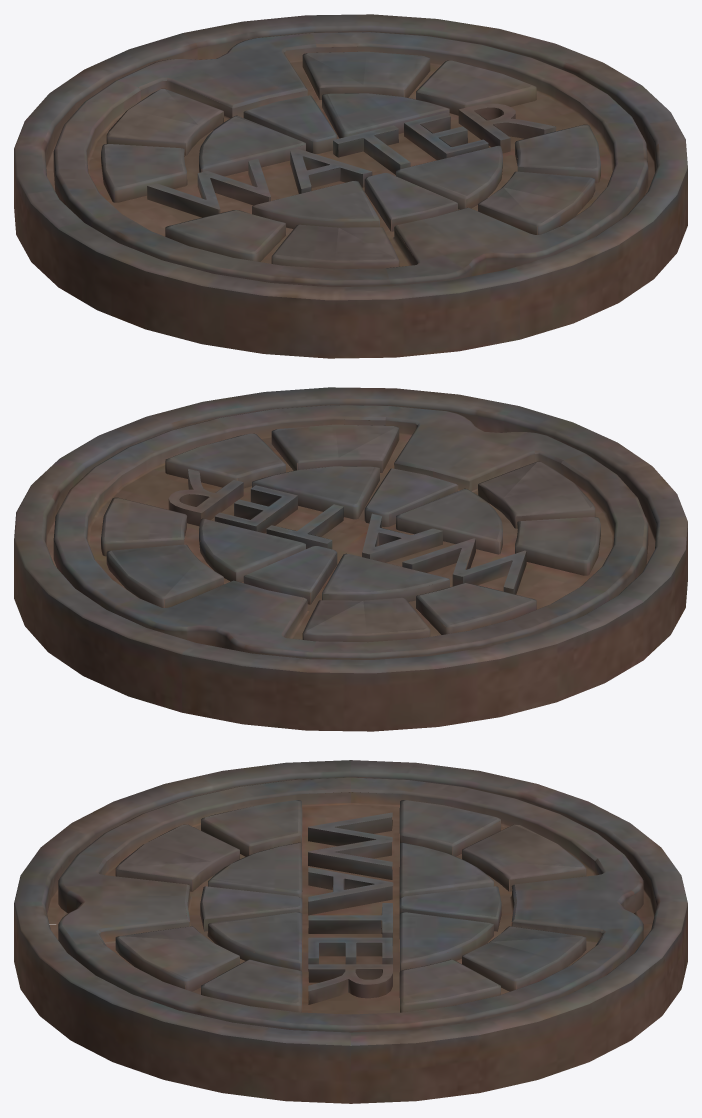
File: u_ph_water_manhole_cover.glb
3 views of the same model, one above another, from view 1: azimuth 30°, elevation 25°; view 2: azimuth 150°, elevation 25°; view 3: azimuth 270°, elevation 25° (orthographic).
Visible parts, largest first — view 1: water_manhole_cover_frame; view 2: water_manhole_cover_frame; view 3: water_manhole_cover_frame.
Part boxes in pixels (x1,y1,x2,y2): water_manhole_cover_frame: [14, 14, 687, 358]; water_manhole_cover_frame: [14, 387, 687, 731]; water_manhole_cover_frame: [14, 760, 687, 1103].
Size of the model in its own units: 0.6908 by 0.0679 by 0.6908.
1 material, 1 textured.
